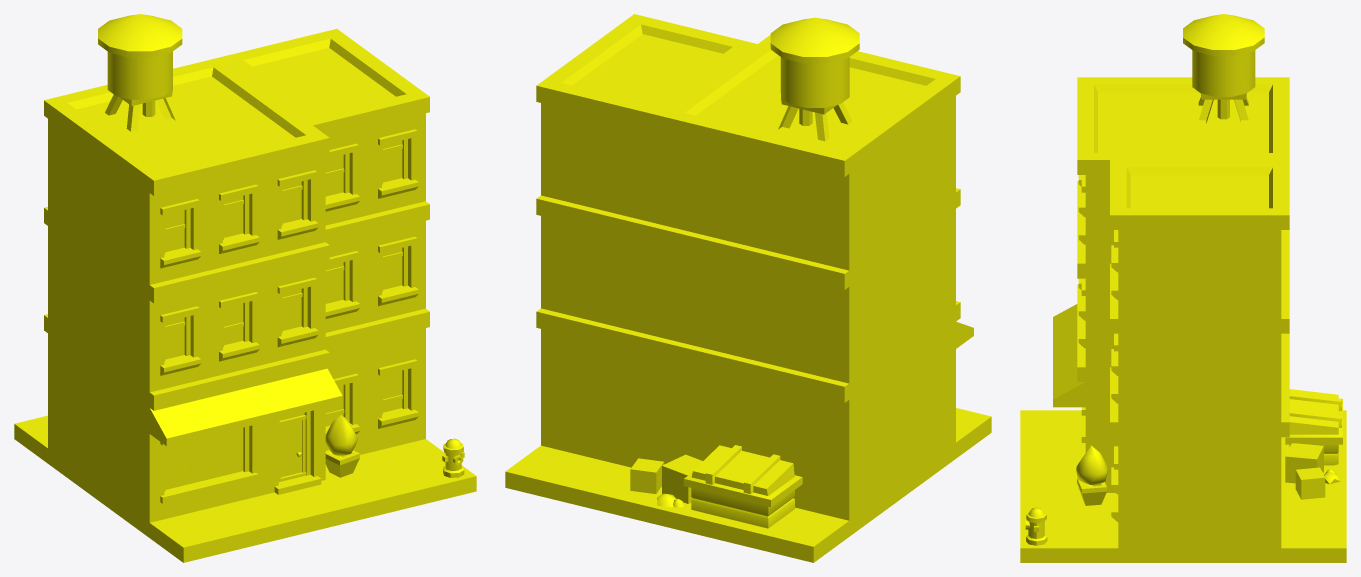
The model's file is kaykit-building-g.glb.
The picture shows the model from 3 angles, left to right: view 1: azimuth 30°, elevation 25°; view 2: azimuth 150°, elevation 25°; view 3: azimuth 270°, elevation 25°; orthographic projection. The views are drawn at different scales.
Parts seen in each view (by area): view 1: building_G; view 2: building_G; view 3: building_G.
Boxes of the visible parts, box(x1,y1,x2,y2) form: building_G: box(14, 14, 476, 562); building_G: box(505, 14, 991, 562); building_G: box(1020, 14, 1346, 562).
Size of the model in its own units: 2.01 by 2.98 by 2.
